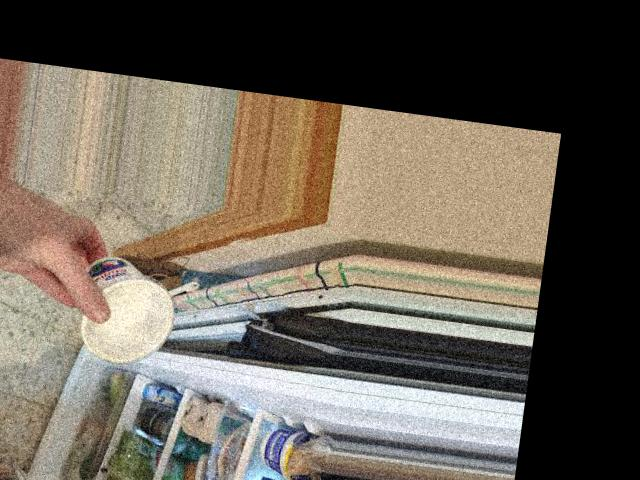cotage: (63, 245, 191, 372)
